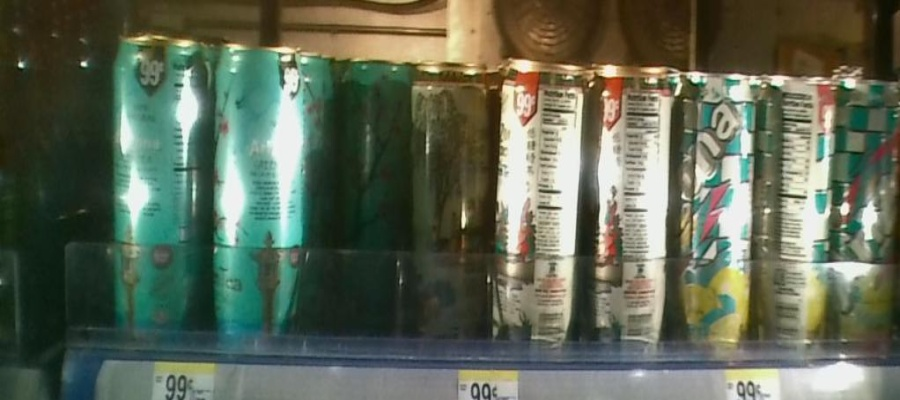bottle: (209, 34, 305, 358), (109, 22, 205, 336), (587, 54, 676, 366), (497, 65, 585, 358), (681, 45, 756, 369), (761, 57, 835, 354), (411, 77, 487, 358), (333, 45, 406, 336), (837, 67, 900, 364)
